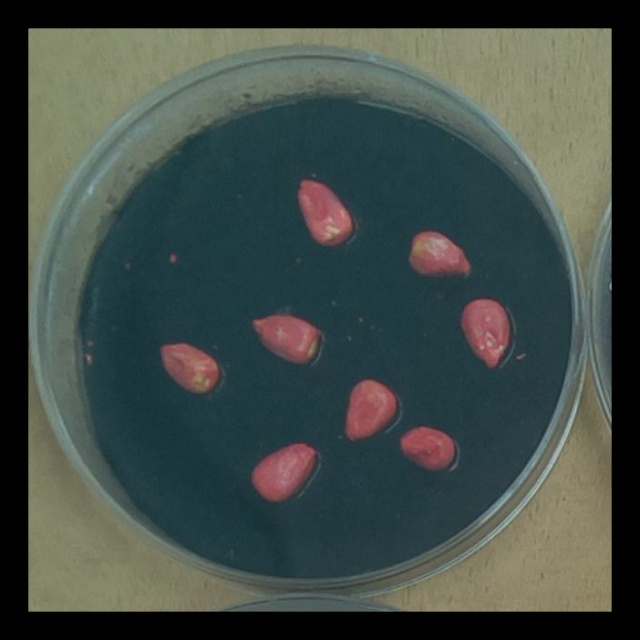Zea mays: (244, 437, 322, 509), (290, 173, 357, 255), (453, 292, 514, 377), (246, 309, 326, 371), (337, 373, 403, 447), (400, 227, 477, 285), (154, 339, 226, 401), (392, 421, 461, 478)
